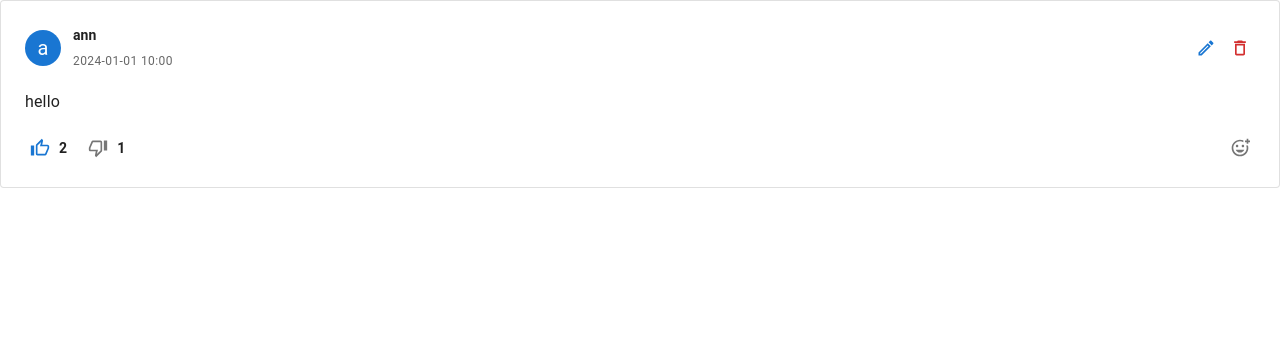
Test case: shows a failed edit and keeps editing
What coordinates should you click on to do the following:
click the button with test id "post-edit-btn"
I would click on:
 (1206, 48)
Its box is [1191,33,1221,63].
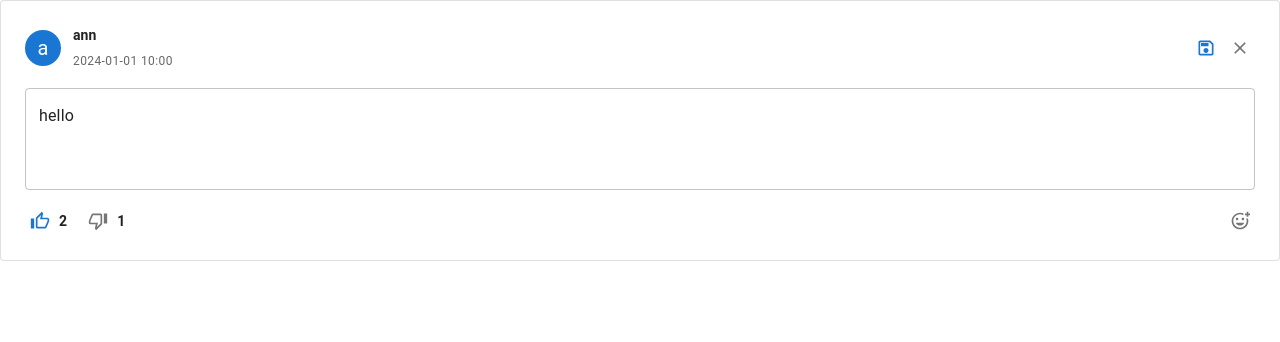
What coordinates should you click on to do the following:
click the button with test id "post-save-btn"
I would click on:
 (1206, 48)
Its box is [1191,33,1221,63].
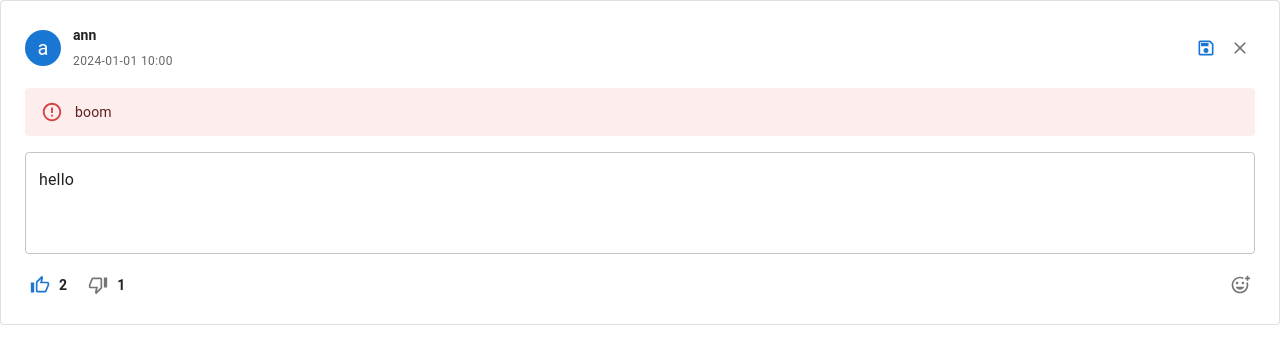
Check: the element with test id "post-edit-input" is shown, box [25,152,1255,254]
Check: the message with test id "post-error" reads "boom", box [75,104,112,120]
